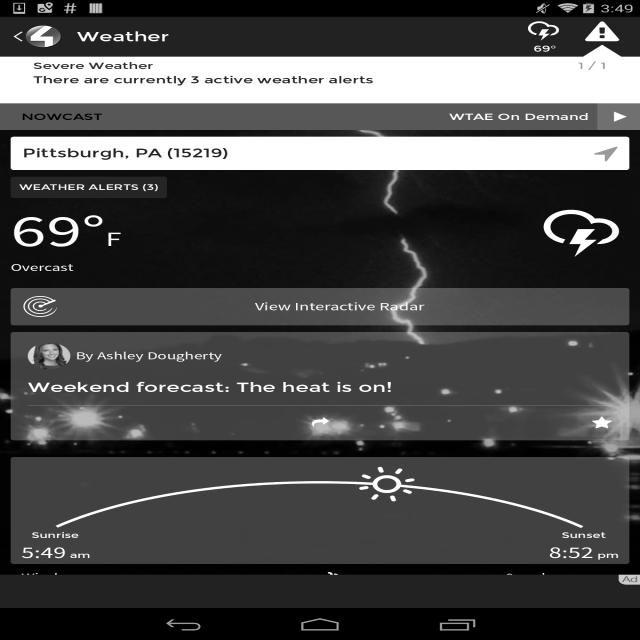Button: (11, 177, 167, 198)
EditText: (12, 138, 594, 170)
ImageButton: (9, 16, 68, 56)
ImageView: (0, 17, 640, 608), (56, 464, 584, 530), (534, 204, 630, 264), (224, 567, 427, 588), (514, 19, 573, 43), (28, 343, 70, 369), (21, 294, 60, 318), (585, 21, 619, 42), (581, 43, 623, 60), (605, 108, 632, 125), (618, 574, 640, 584)
TextView: (28, 380, 612, 396), (59, 299, 618, 314), (22, 74, 618, 86), (68, 28, 514, 44), (10, 203, 121, 261), (76, 343, 222, 369), (449, 103, 589, 130), (21, 570, 224, 584), (427, 570, 629, 584), (576, 406, 628, 440), (22, 60, 164, 71), (548, 543, 618, 563), (21, 543, 90, 563), (12, 406, 44, 438), (11, 260, 74, 274), (22, 111, 102, 122), (594, 144, 628, 163), (568, 60, 618, 71), (32, 530, 80, 540), (561, 530, 606, 540), (307, 414, 333, 431), (530, 43, 556, 54)
